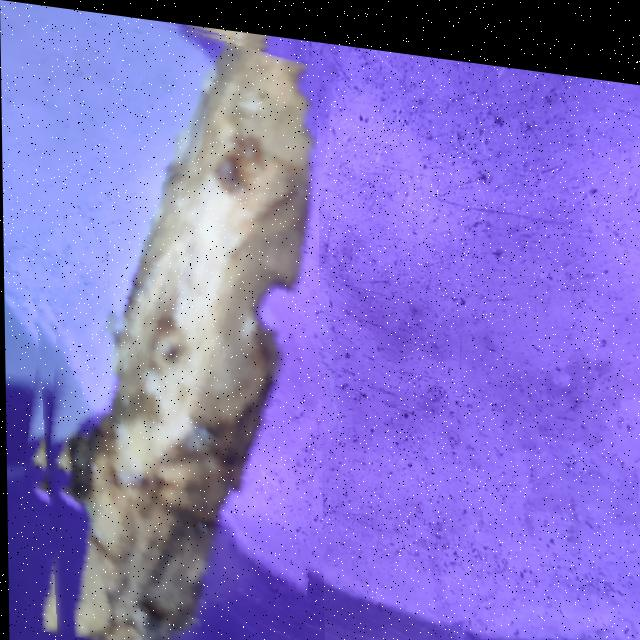litter: (16, 2, 323, 640)
